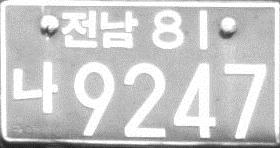1: (196, 7, 210, 50)
2: (121, 59, 167, 140)
4: (172, 61, 218, 138)
7: (221, 60, 268, 141)
8: (151, 9, 184, 50)
9: (70, 59, 115, 136)
나: (11, 58, 59, 114)
전남_O: (59, 9, 139, 50)
